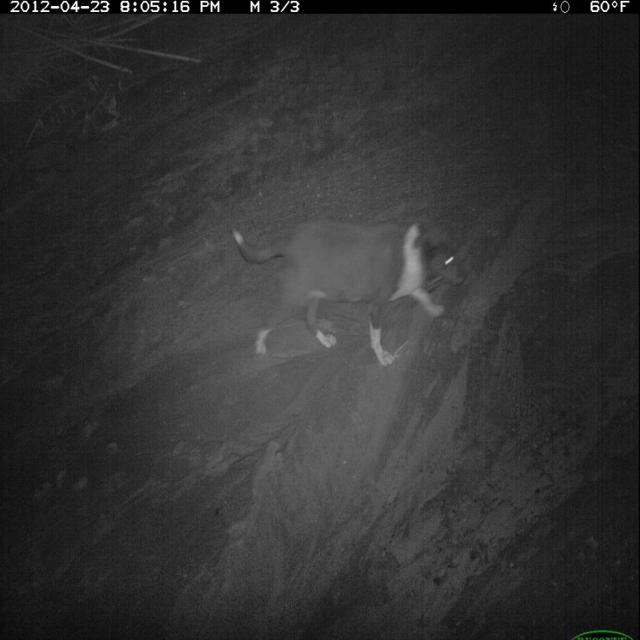dog: (229, 213, 471, 372)
